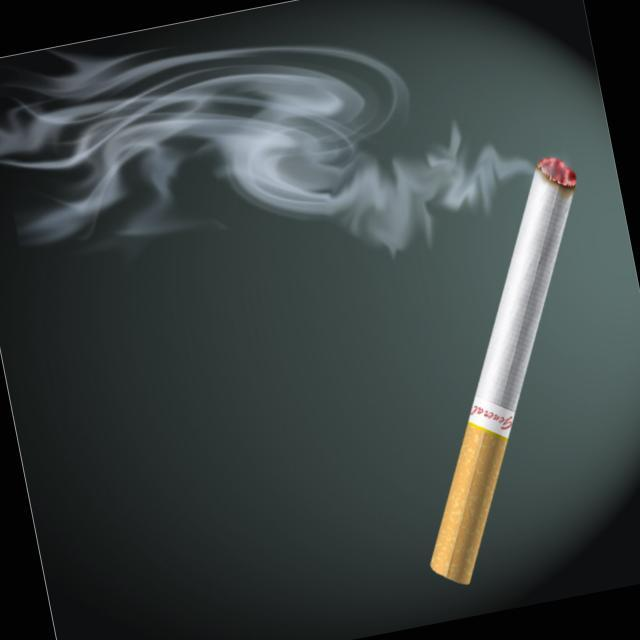cigarette: (341, 135, 640, 589)
